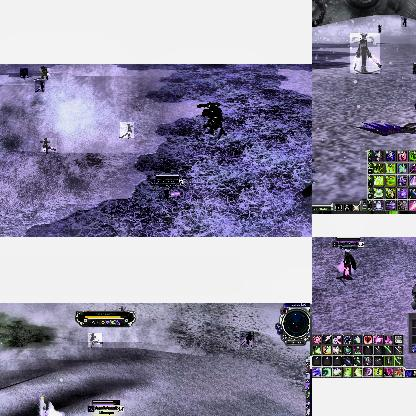caliana: (350, 33, 380, 73), (120, 122, 134, 138), (41, 138, 57, 152), (240, 331, 254, 347), (88, 333, 102, 347), (35, 80, 45, 92), (20, 68, 28, 78), (40, 409, 51, 416), (401, 17, 407, 27), (378, 25, 380, 33)
